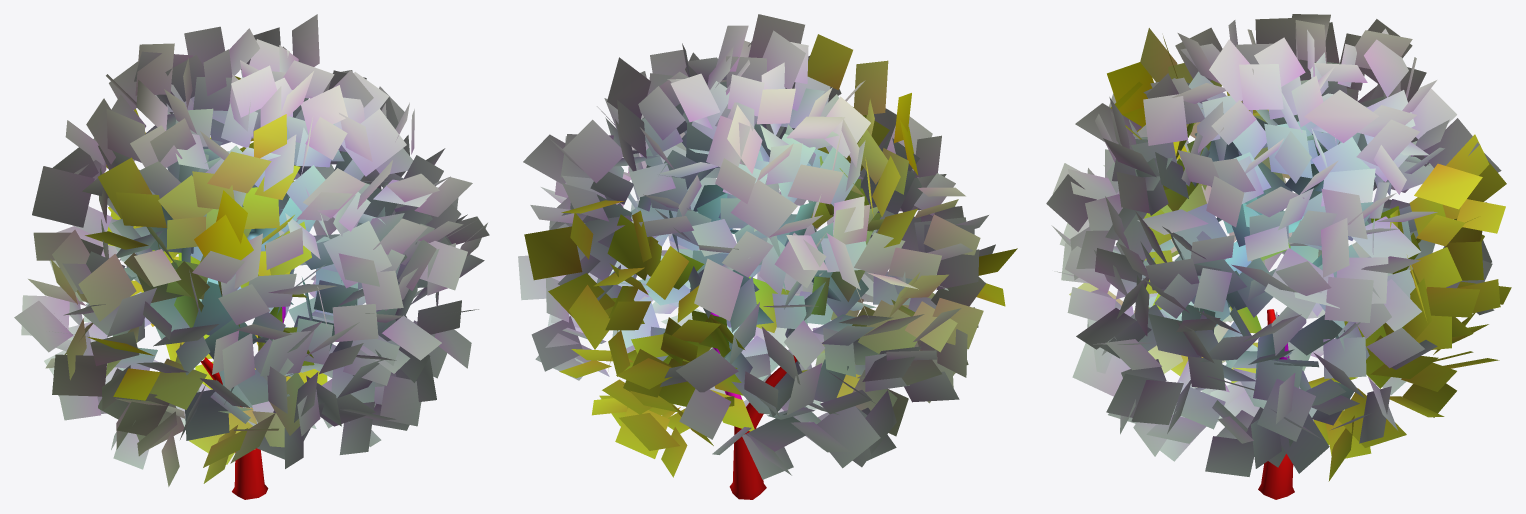
File: chinar_mature_lod1.glb
3 views of the same model, side by side, from view 1: azimuth 30°, elevation 25°; view 2: azimuth 150°, elevation 25°; view 3: azimuth 270°, elevation 25° (orthographic). The views are drawn at different scales.
Visible parts, largest first — view 1: chinar_mature_lod1; view 2: chinar_mature_lod1; view 3: chinar_mature_lod1.
Part boxes in pixels (<box>): chinar_mature_lod1: <box>14,14,489,499</box>; chinar_mature_lod1: <box>518,14,1017,499</box>; chinar_mature_lod1: <box>1046,14,1511,499</box>.
Bounding box in the file's own units: 26.21 × 26.55 × 24.08.
